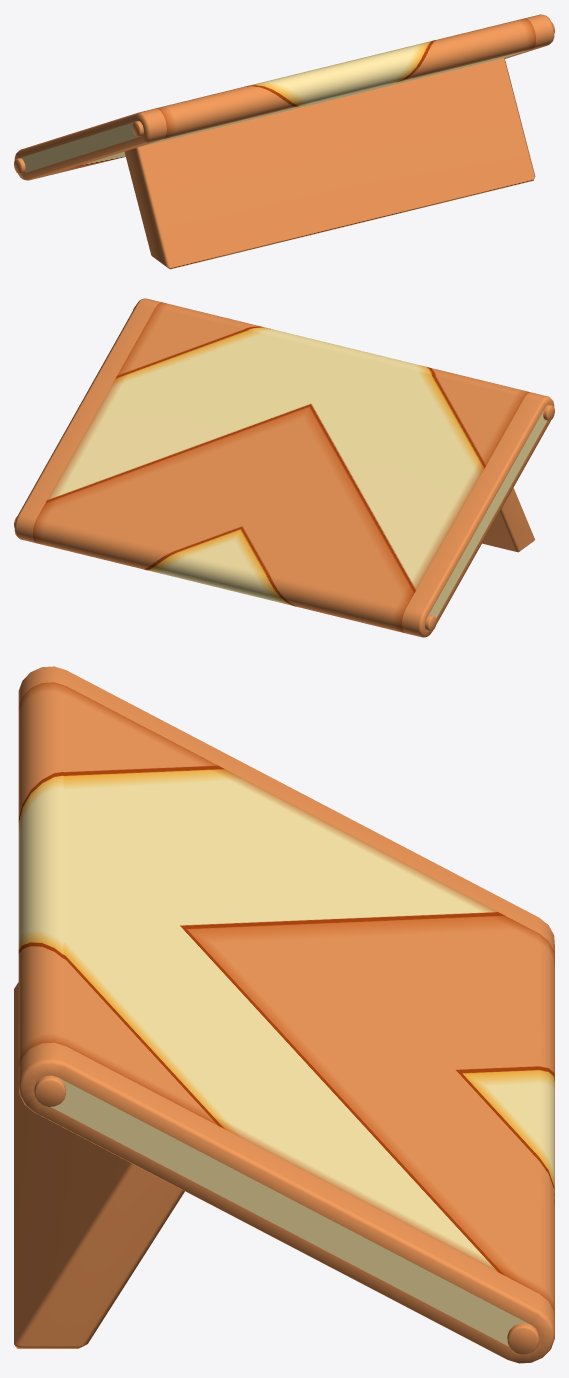
The model's file is JumpingBoard.fbx.
3 views of the same model, one above another, from view 1: azimuth 30°, elevation 25°; view 2: azimuth 150°, elevation 25°; view 3: azimuth 270°, elevation 25° (orthographic). The views are drawn at different scales.
Visible parts, largest first — view 1: JumpingBoard; view 2: JumpingBoard; view 3: JumpingBoard.
Boxes of the visible parts, box(x1,y1,x2,y2) form: JumpingBoard: box(14, 14, 554, 269); JumpingBoard: box(14, 298, 554, 637); JumpingBoard: box(14, 666, 554, 1363).
Size of the model in its own units: 430 by 153 by 243.
Materials: 2 (2 with a texture image).
